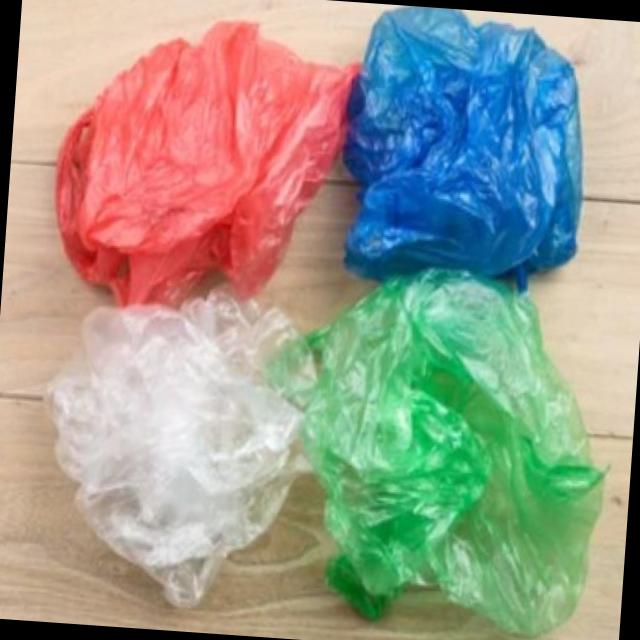general: (251, 252, 623, 640), (45, 3, 362, 322), (333, 2, 595, 294)
